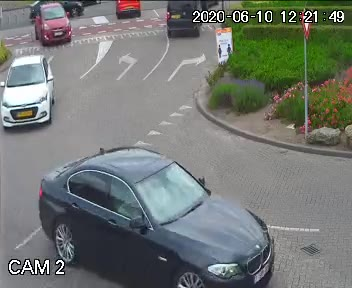car: (26, 141, 277, 288), (2, 55, 54, 136), (162, 0, 205, 41), (38, 0, 72, 48), (23, 1, 89, 15), (113, 0, 140, 21)
